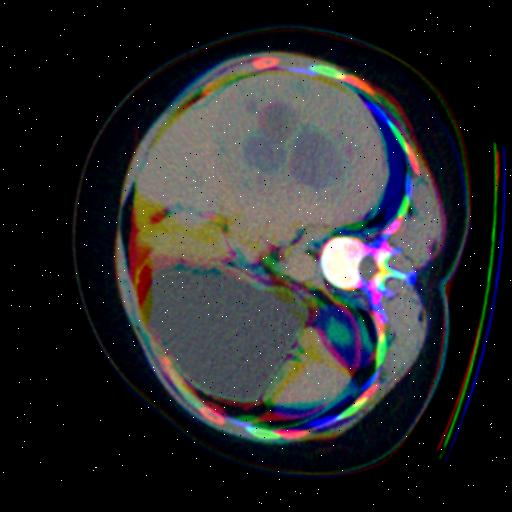Tumor: (240, 99, 338, 187)
